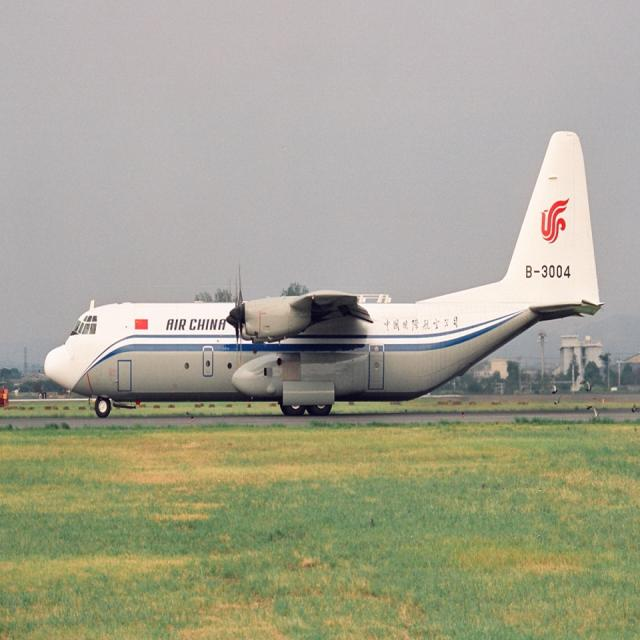MIL_Plane: (44, 130, 606, 419)
